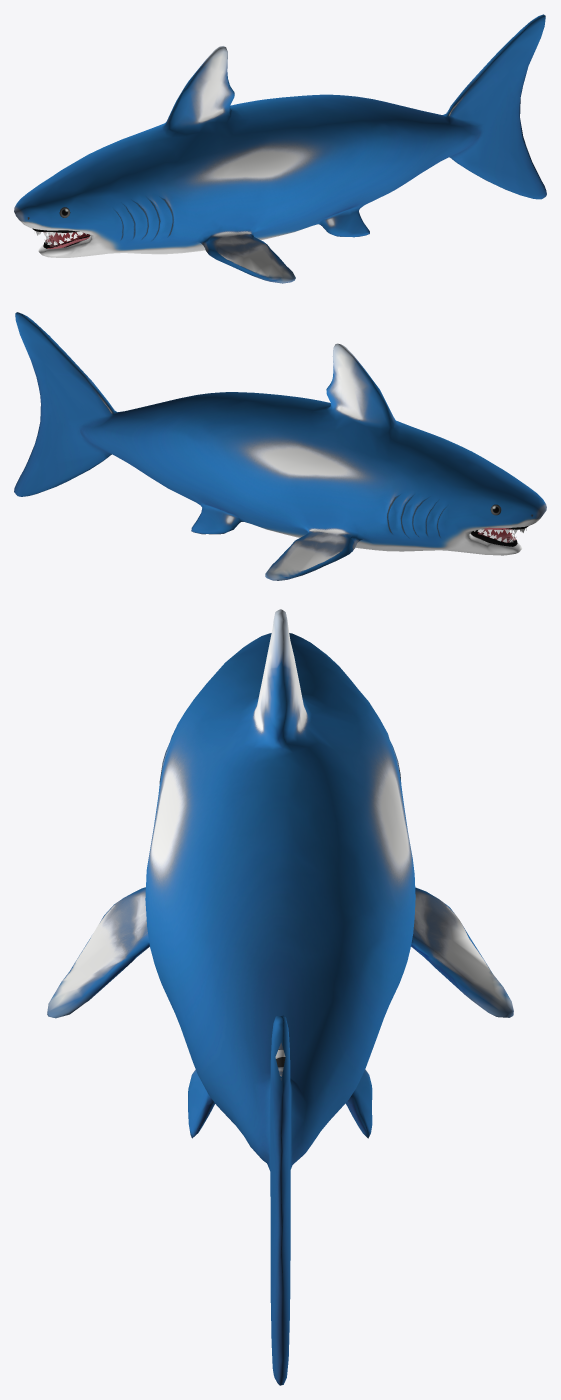
The model's file is SHARK.obj.
The picture shows the model from 3 angles, top to bottom: view 1: azimuth 30°, elevation 25°; view 2: azimuth 150°, elevation 25°; view 3: azimuth 270°, elevation 25°; orthographic projection. The views are drawn at different scales.
Parts seen in each view (by area): view 1: Mesh4_mat122_0, Mesh3_mat120_0; view 2: Mesh4_mat122_0, Mesh3_mat120_0; view 3: Mesh4_mat122_0.
Boxes of the visible parts, x1,y1,x2,y2 form: Mesh4_mat122_0: (14,14,546,283); Mesh3_mat120_0: (43,232,90,248); Mesh4_mat122_0: (14,312,546,580); Mesh3_mat120_0: (471,529,517,546); Mesh4_mat122_0: (47,609,513,1385).
Bounding box in the file's own units: 4.24 × 1.76 × 1.61.
5 materials, 4 textured.
